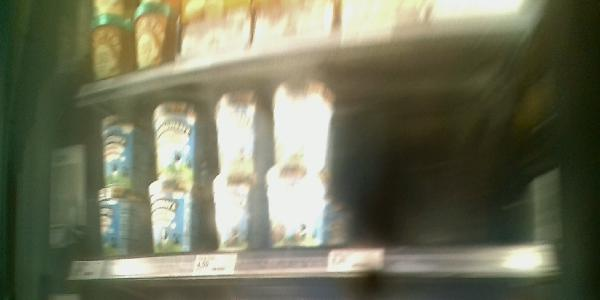icecream1: (268, 75, 334, 170), (211, 88, 274, 174), (269, 170, 336, 250), (146, 97, 205, 182), (210, 174, 270, 252), (145, 181, 205, 250), (97, 109, 150, 186), (94, 187, 147, 260)
